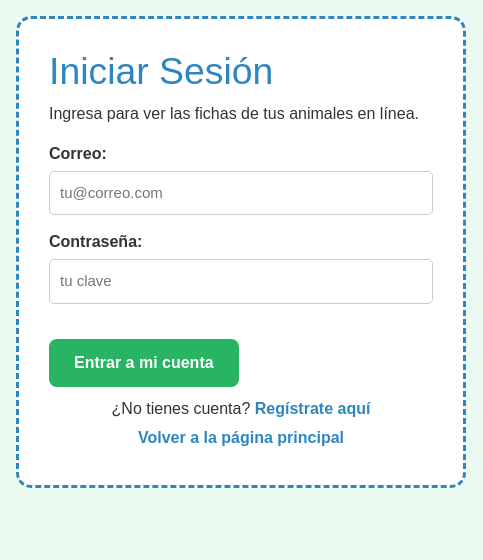
Login › muestra el mensaje del backend si las credenciales son incorrectas
Type "otro@correo.cl" into the field labelled "Correo:" at coordinates (241, 193), box [49,171,433,215]
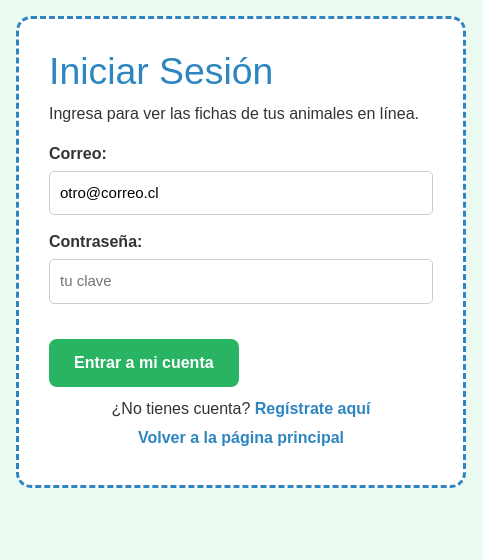
Type "mala" into the password field labelled "Contraseña:" at coordinates (241, 282), box [49,259,433,304]
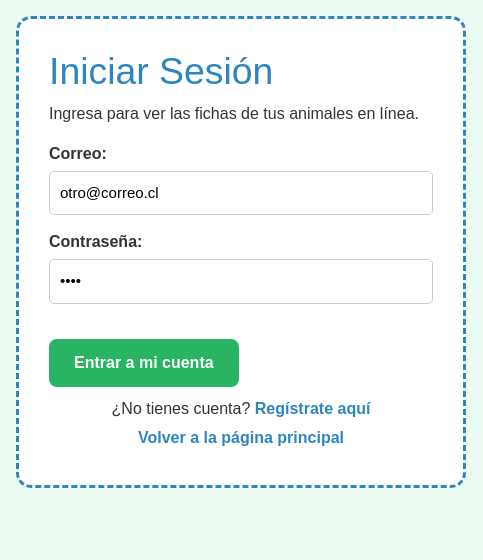
Click the button "Entrar a mi cuenta" at coordinates (144, 363), box [49,339,239,387]
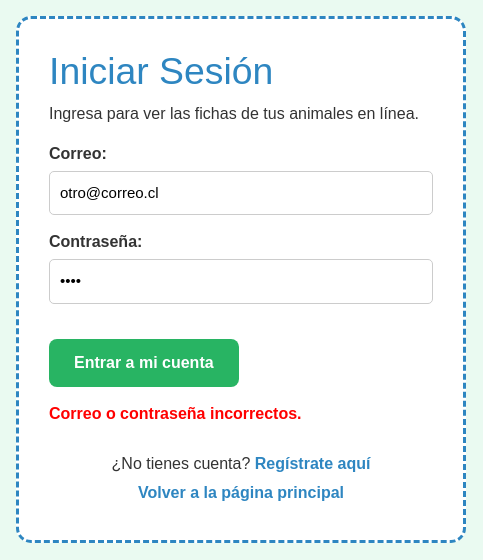
Result: the text "Correo o contraseña incorrectos." is shown at [49,405,302,422]
